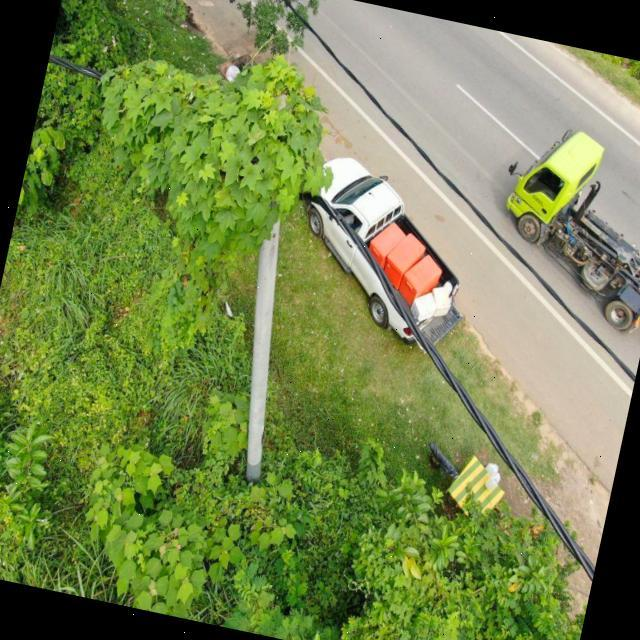critical vegetation: (49, 15, 354, 330)
